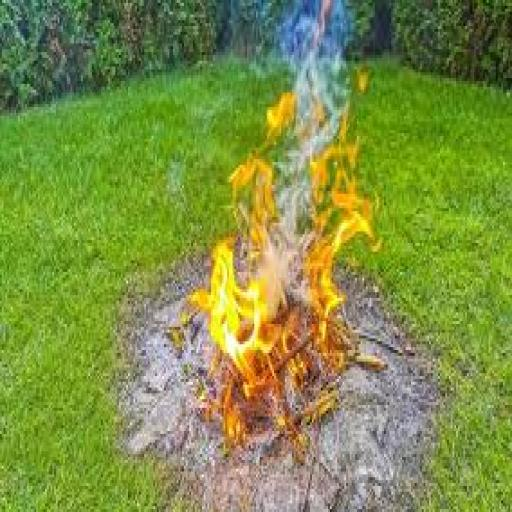smoke: (169, 49, 384, 457)
